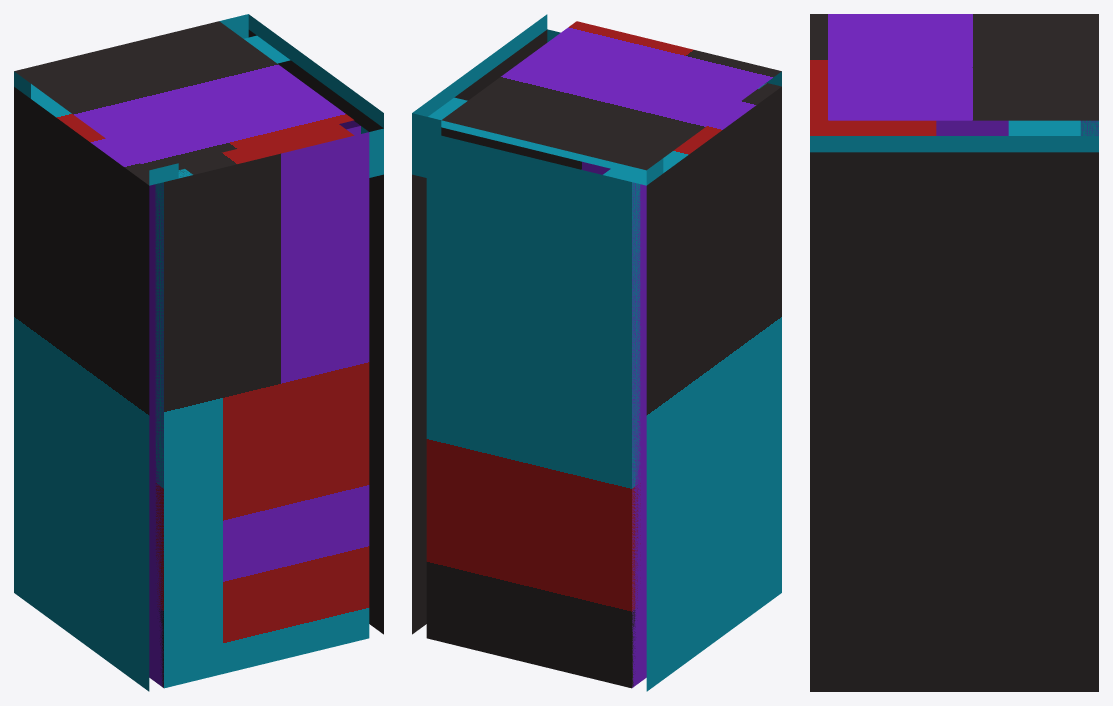
The model's file is House.obj.
The picture shows the model from 3 angles, left to right: view 1: azimuth 30°, elevation 25°; view 2: azimuth 150°, elevation 25°; view 3: azimuth 270°, elevation 25°; orthographic projection. The views are drawn at different scales.
Visible parts, largest first — view 1: House; view 2: House; view 3: House.
Part boxes in pixels (x1,y1,x2,y2): House: [14, 14, 383, 691]; House: [412, 14, 781, 691]; House: [810, 14, 1098, 691].
Size of the model in its own units: 1 by 2.12 by 1.
